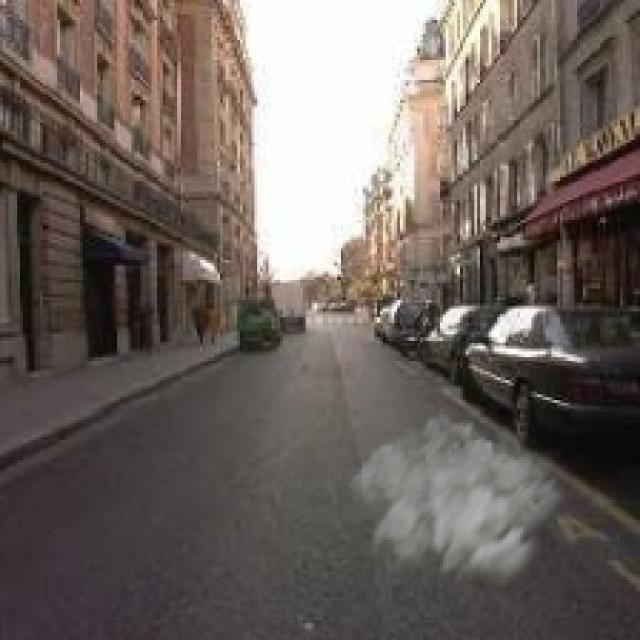Smoke: (337, 406, 574, 618)
